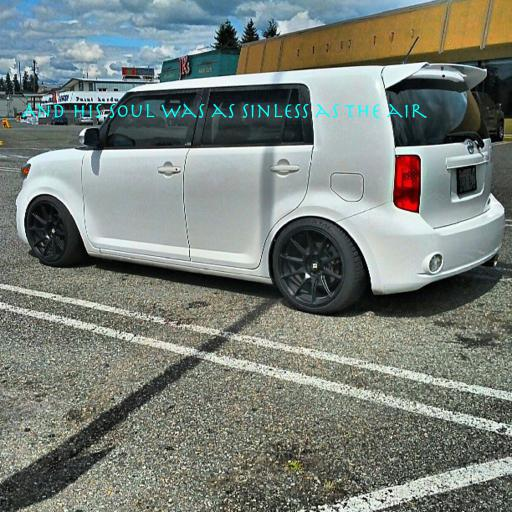Herculanum: (21, 103, 427, 118)
